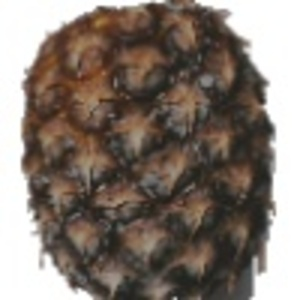abacaxi: (12, 2, 285, 295)
